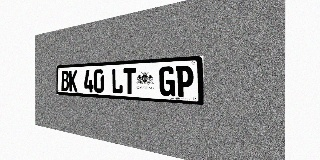0: (94, 69, 104, 93)
4: (84, 69, 93, 92)
B: (61, 70, 69, 91)
G: (159, 66, 175, 97)
K: (69, 70, 77, 92)
L: (111, 68, 123, 94)
P: (176, 65, 193, 97)
T: (123, 68, 136, 95)
